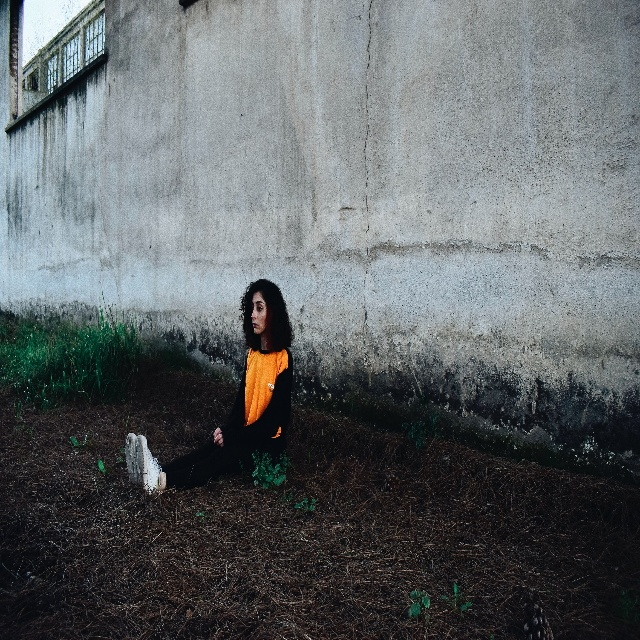Sin_guantes: (214, 432, 224, 447)
